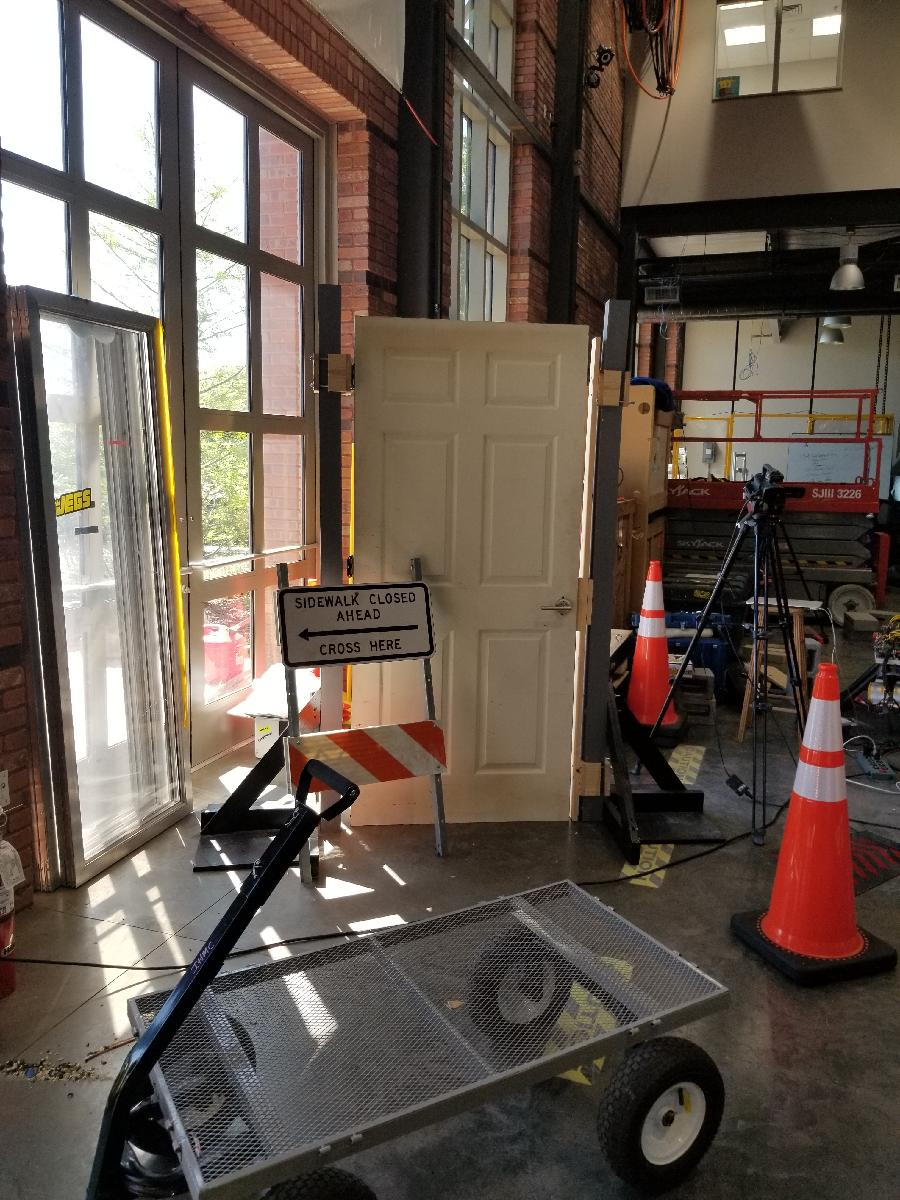door: (342, 312, 589, 829)
doorHandle: (533, 593, 577, 625)
